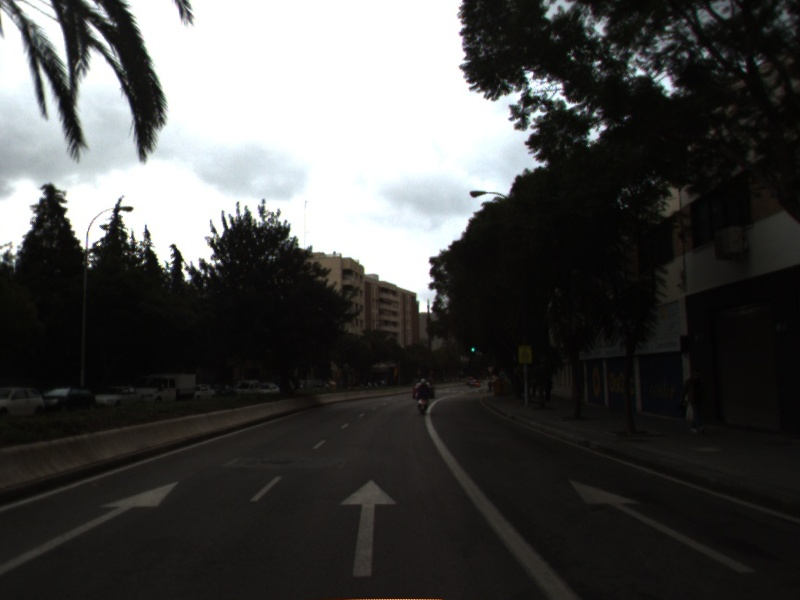STRAIGHT: (567, 476, 760, 576), (1, 477, 183, 574), (337, 477, 400, 579)
